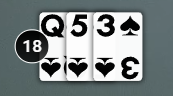3: (93, 12, 119, 38)
5: (66, 11, 93, 38)
q: (39, 11, 67, 41)
